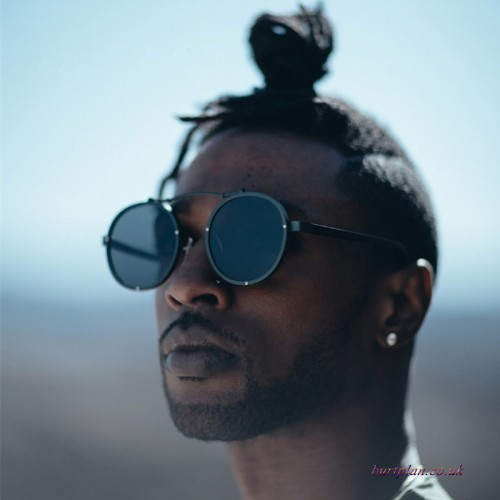sunglasses: (85, 191, 342, 295)
